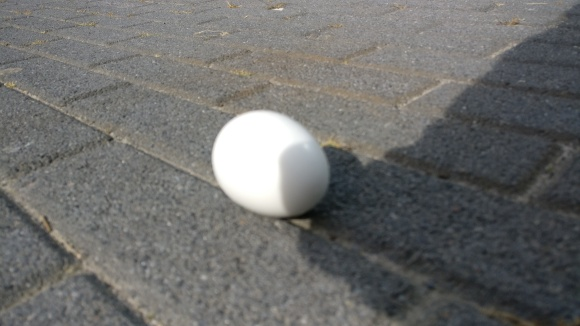egg: (210, 110, 330, 217)
